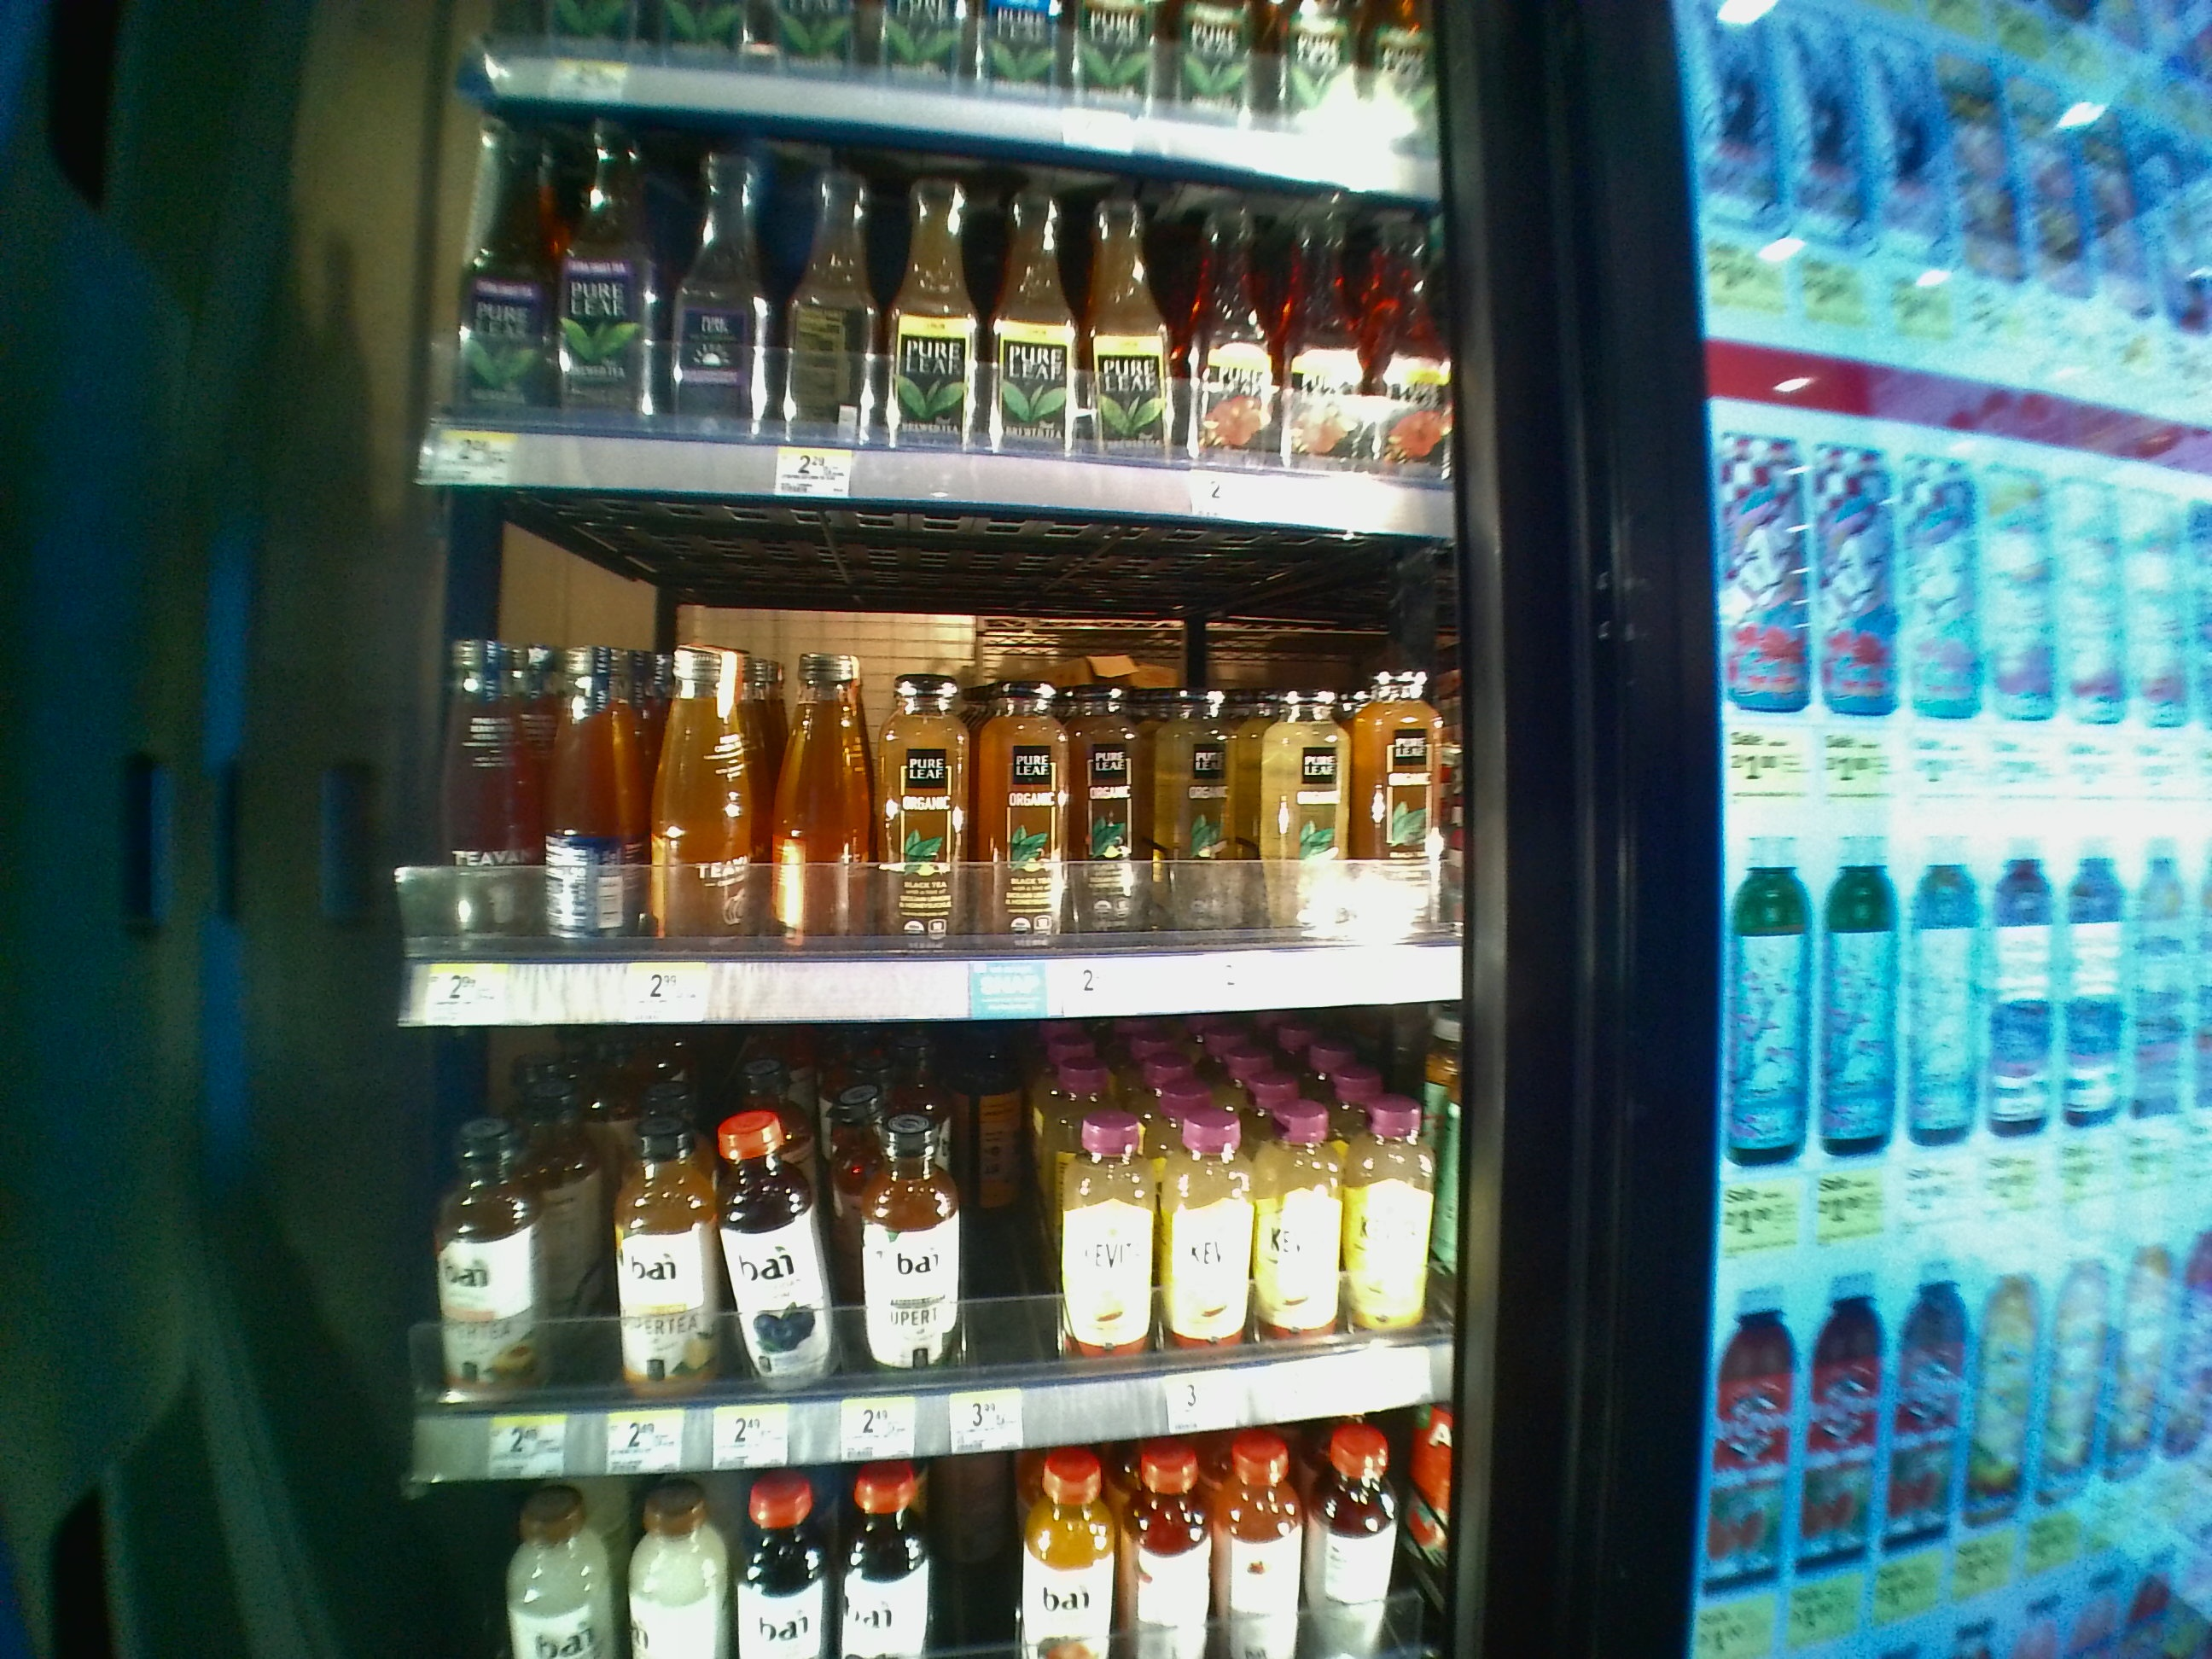shelf: (399, 535, 1460, 1028), (395, 1044, 1458, 1507), (421, 101, 1451, 521)
